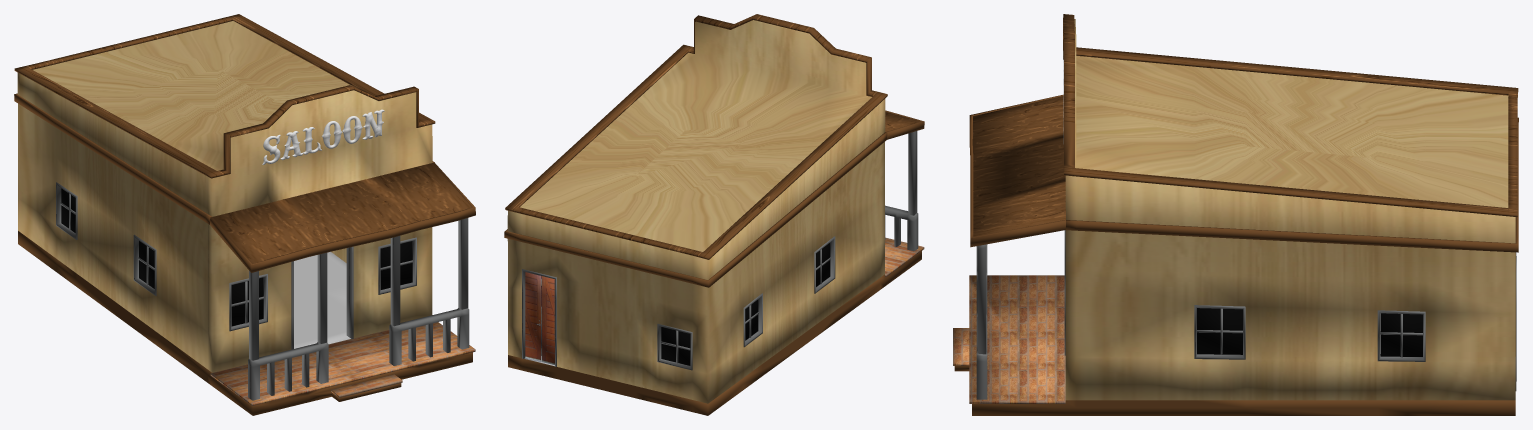
File: saloon.glb
3 renders of one model, left to right at view 1: azimuth 30°, elevation 25°; view 2: azimuth 150°, elevation 25°; view 3: azimuth 270°, elevation 25°, orthographic. The views are drawn at different scales.
Visible parts, largest first — view 1: saloon, aleron, porchfloor, rooftrim, foundation, midtrims, porchrails, floor, colums, frames, glass, sign; view 2: saloon, rooftrim, foundation, midtrims, reardoor, frames, glass, porchrails, colums, porchfloor, aleron; view 3: saloon, porchfloor, aleron, rooftrim, foundation, midtrims, glass, frames, colums, porchrails.
Boxes of the visible parts, x1=… form: saloon: x1=17, y1=21, x2=432, y2=372; aleron: x1=213, y1=163, x2=471, y2=263; porchfloor: x1=210, y1=322, x2=475, y2=405; rooftrim: x1=14, y1=14, x2=435, y2=178; foundation: x1=18, y1=231, x2=472, y2=415; midtrims: x1=14, y1=93, x2=475, y2=272; porchrails: x1=248, y1=308, x2=469, y2=400; floor: x1=294, y1=251, x2=350, y2=348; colums: x1=249, y1=218, x2=468, y2=360; frames: x1=56, y1=182, x2=416, y2=349; glass: x1=61, y1=188, x2=412, y2=326; sign: x1=262, y1=109, x2=384, y2=164; saloon: x1=507, y1=20, x2=885, y2=403; rooftrim: x1=505, y1=14, x2=887, y2=259; foundation: x1=508, y1=251, x2=921, y2=415; midtrims: x1=504, y1=110, x2=924, y2=287; reardoor: x1=525, y1=272, x2=554, y2=364; frames: x1=522, y1=236, x2=835, y2=370; glass: x1=661, y1=242, x2=830, y2=365; porchrails: x1=885, y1=205, x2=918, y2=251; colums: x1=908, y1=131, x2=917, y2=215; porchfloor: x1=885, y1=237, x2=924, y2=276; aleron: x1=885, y1=111, x2=920, y2=131; saloon: x1=1065, y1=19, x2=1515, y2=400; porchfloor: x1=953, y1=275, x2=1065, y2=403; aleron: x1=972, y1=96, x2=1065, y2=236; rooftrim: x1=1063, y1=14, x2=1518, y2=216; foundation: x1=954, y1=366, x2=1515, y2=415; midtrims: x1=969, y1=94, x2=1518, y2=252; glass: x1=1197, y1=308, x2=1422, y2=356; frames: x1=1064, y1=230, x2=1516, y2=390; colums: x1=977, y1=244, x2=986, y2=354; porchrails: x1=976, y1=244, x2=987, y2=399.
Bounding box in the file's own units: 0.0347 × 0.039 × 0.0653.
Materials: 7 (5 with a texture image).
